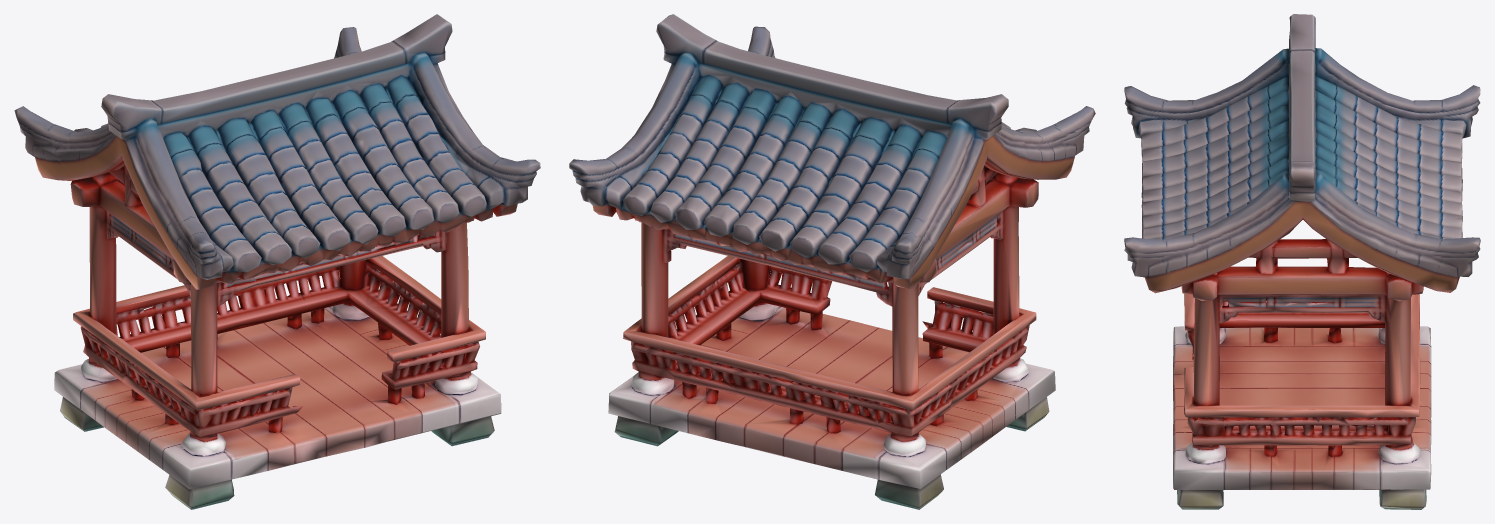
File: wood-pavilion.glb
3 renders of one model, left to right at view 1: azimuth 30°, elevation 25°; view 2: azimuth 150°, elevation 25°; view 3: azimuth 270°, elevation 25°, orthographic. The views are drawn at different scales.
Parts seen in each view (by area): view 1: model; view 2: model; view 3: model.
Part boxes in pixels (left/top/right/bottom): model: left=14, top=14, right=540, bottom=509; model: left=569, top=14, right=1095, bottom=509; model: left=1124, top=14, right=1480, bottom=509.
Size of the model in its own units: 0.965 by 1 by 0.9205.
Materials: 1 (1 with a texture image).
